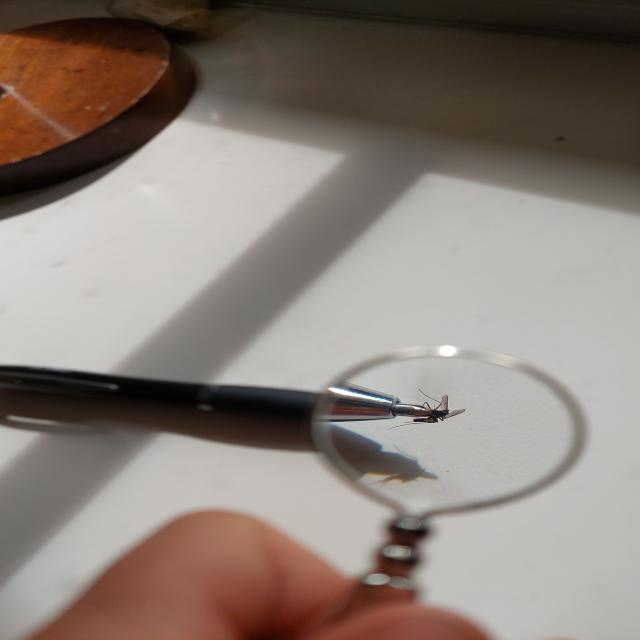albopictus: (308, 373, 470, 432)
